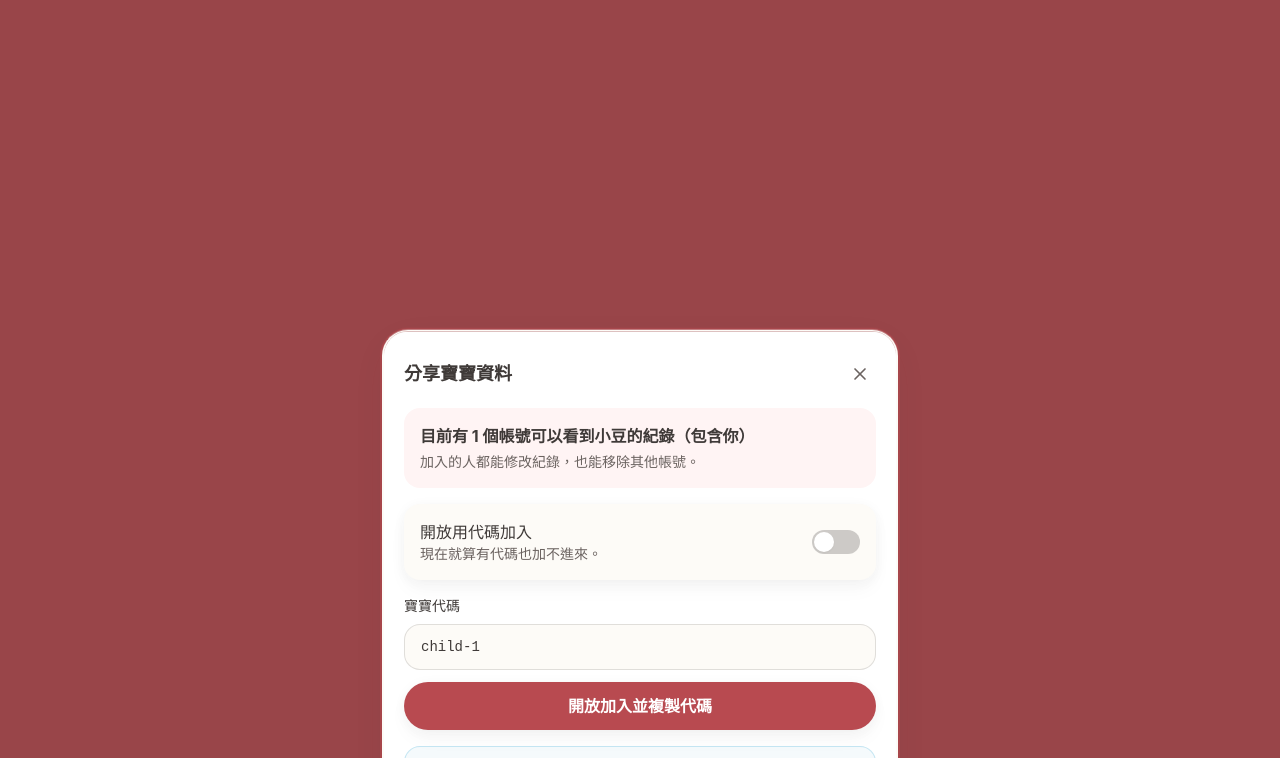
Test: 開放用代碼加入 › 寫入被拒時開關不會移動到資料庫沒有的位置
The width and height of the screenshot is (1280, 758).
What coordinates should you click on to do the following:
click the switch named "開放用代碼加入"
I would click on:
 (836, 542)
Its box is [812, 520, 860, 564].
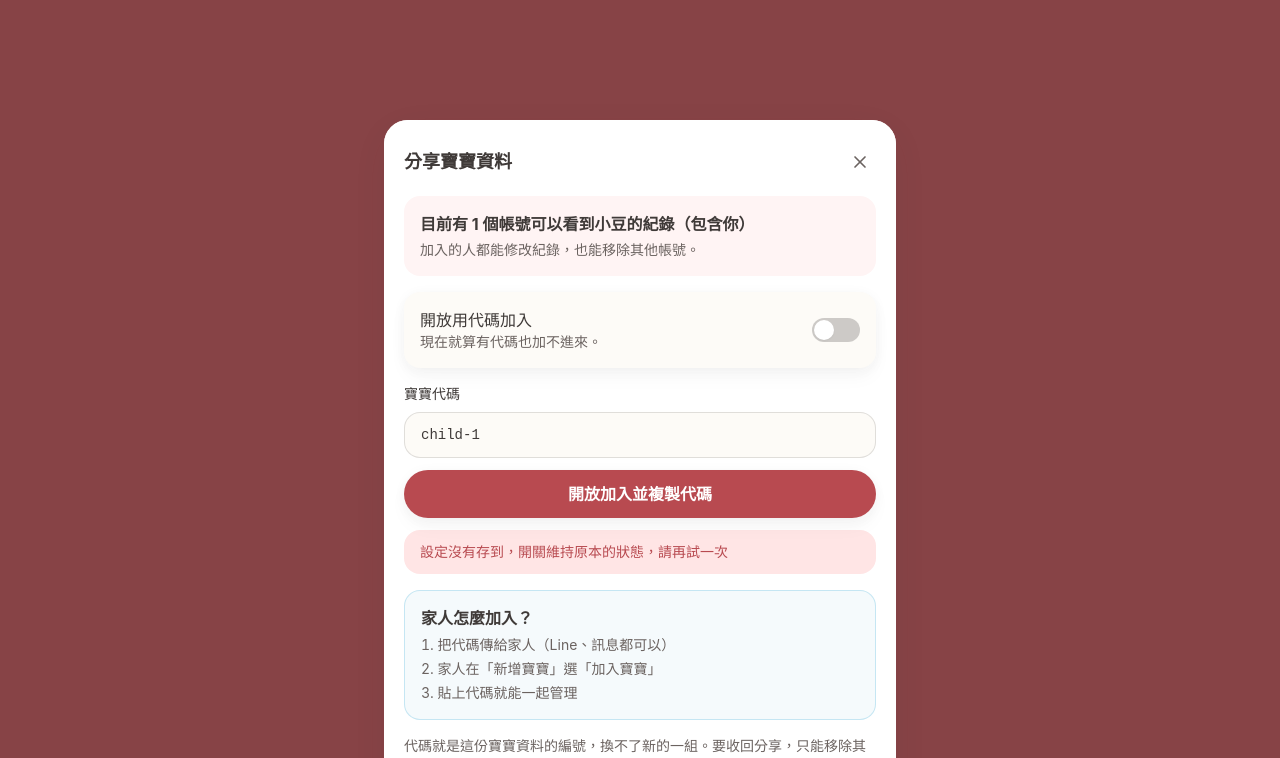
Expected: the message shows "設定沒有存到，開關維持原本的狀態", [420, 543, 728, 560]
